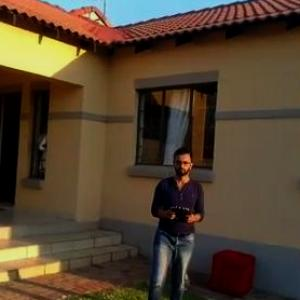follow: (142, 140, 210, 299)
